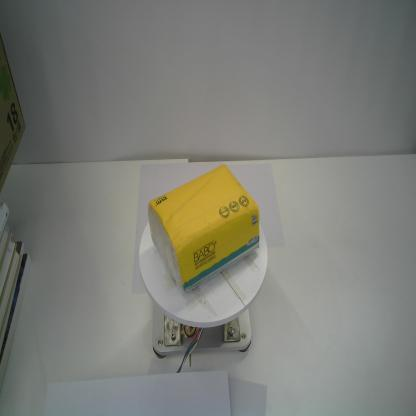Tissue: (147, 163, 260, 295)
